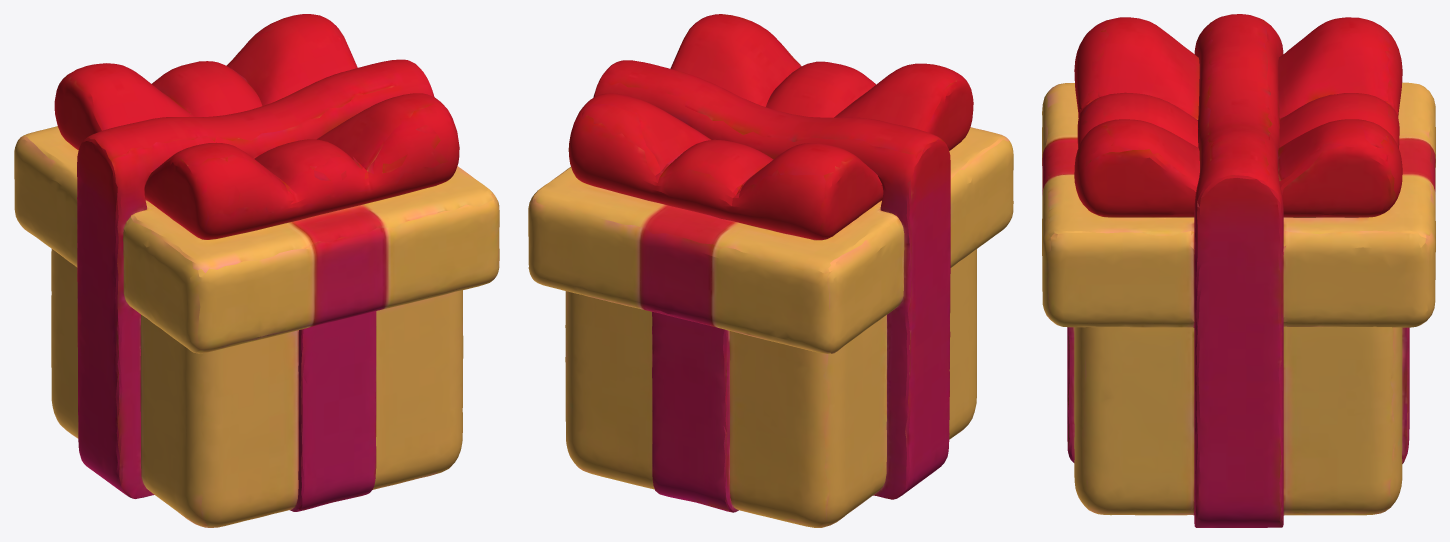
Rendered from gift.glb.
The picture shows the model from 3 angles, left to right: view 1: azimuth 30°, elevation 25°; view 2: azimuth 150°, elevation 25°; view 3: azimuth 270°, elevation 25°; orthographic projection. The views are drawn at different scales.
Parts seen in each view (by area): view 1: Mesh; view 2: Mesh; view 3: Mesh.
Boxes of the visible parts, x1,y1,x2,y2 form: Mesh: [14, 14, 499, 527]; Mesh: [528, 14, 1013, 527]; Mesh: [1042, 14, 1435, 527].
Size of the model in its own units: 0.918 by 1 by 0.938.
1 material, 1 textured.
